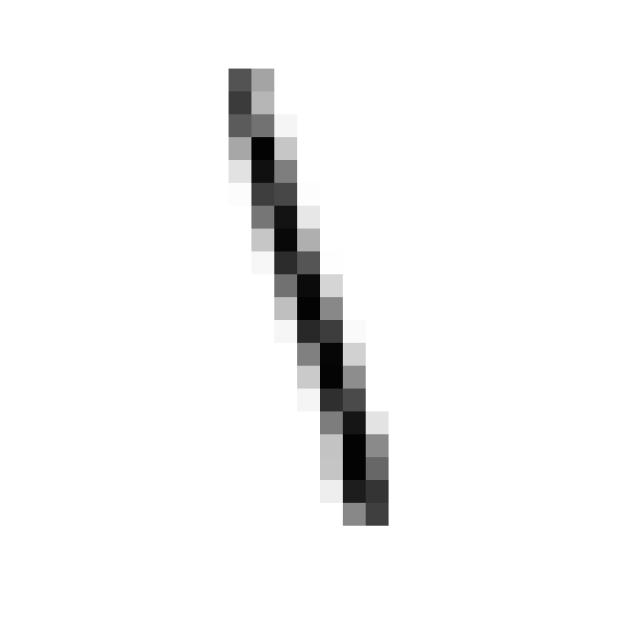1 -one-: (206, 43, 410, 550)
